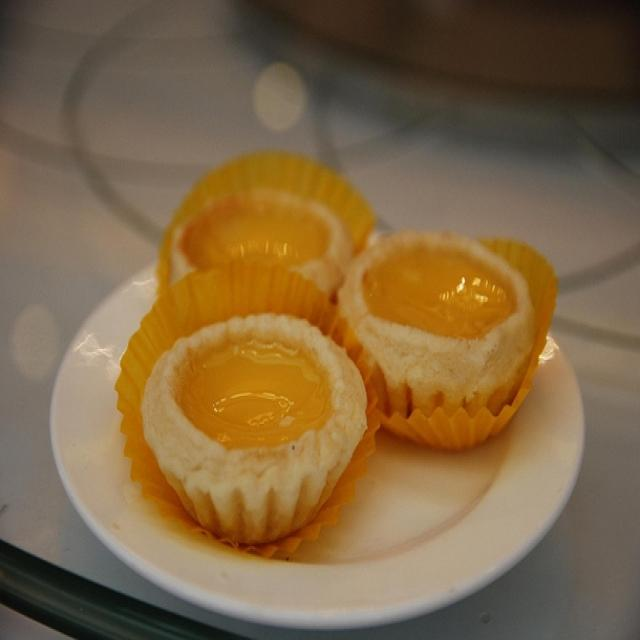炸货点心: (126, 141, 548, 573)
蛋糕甜品: (126, 141, 548, 573)
